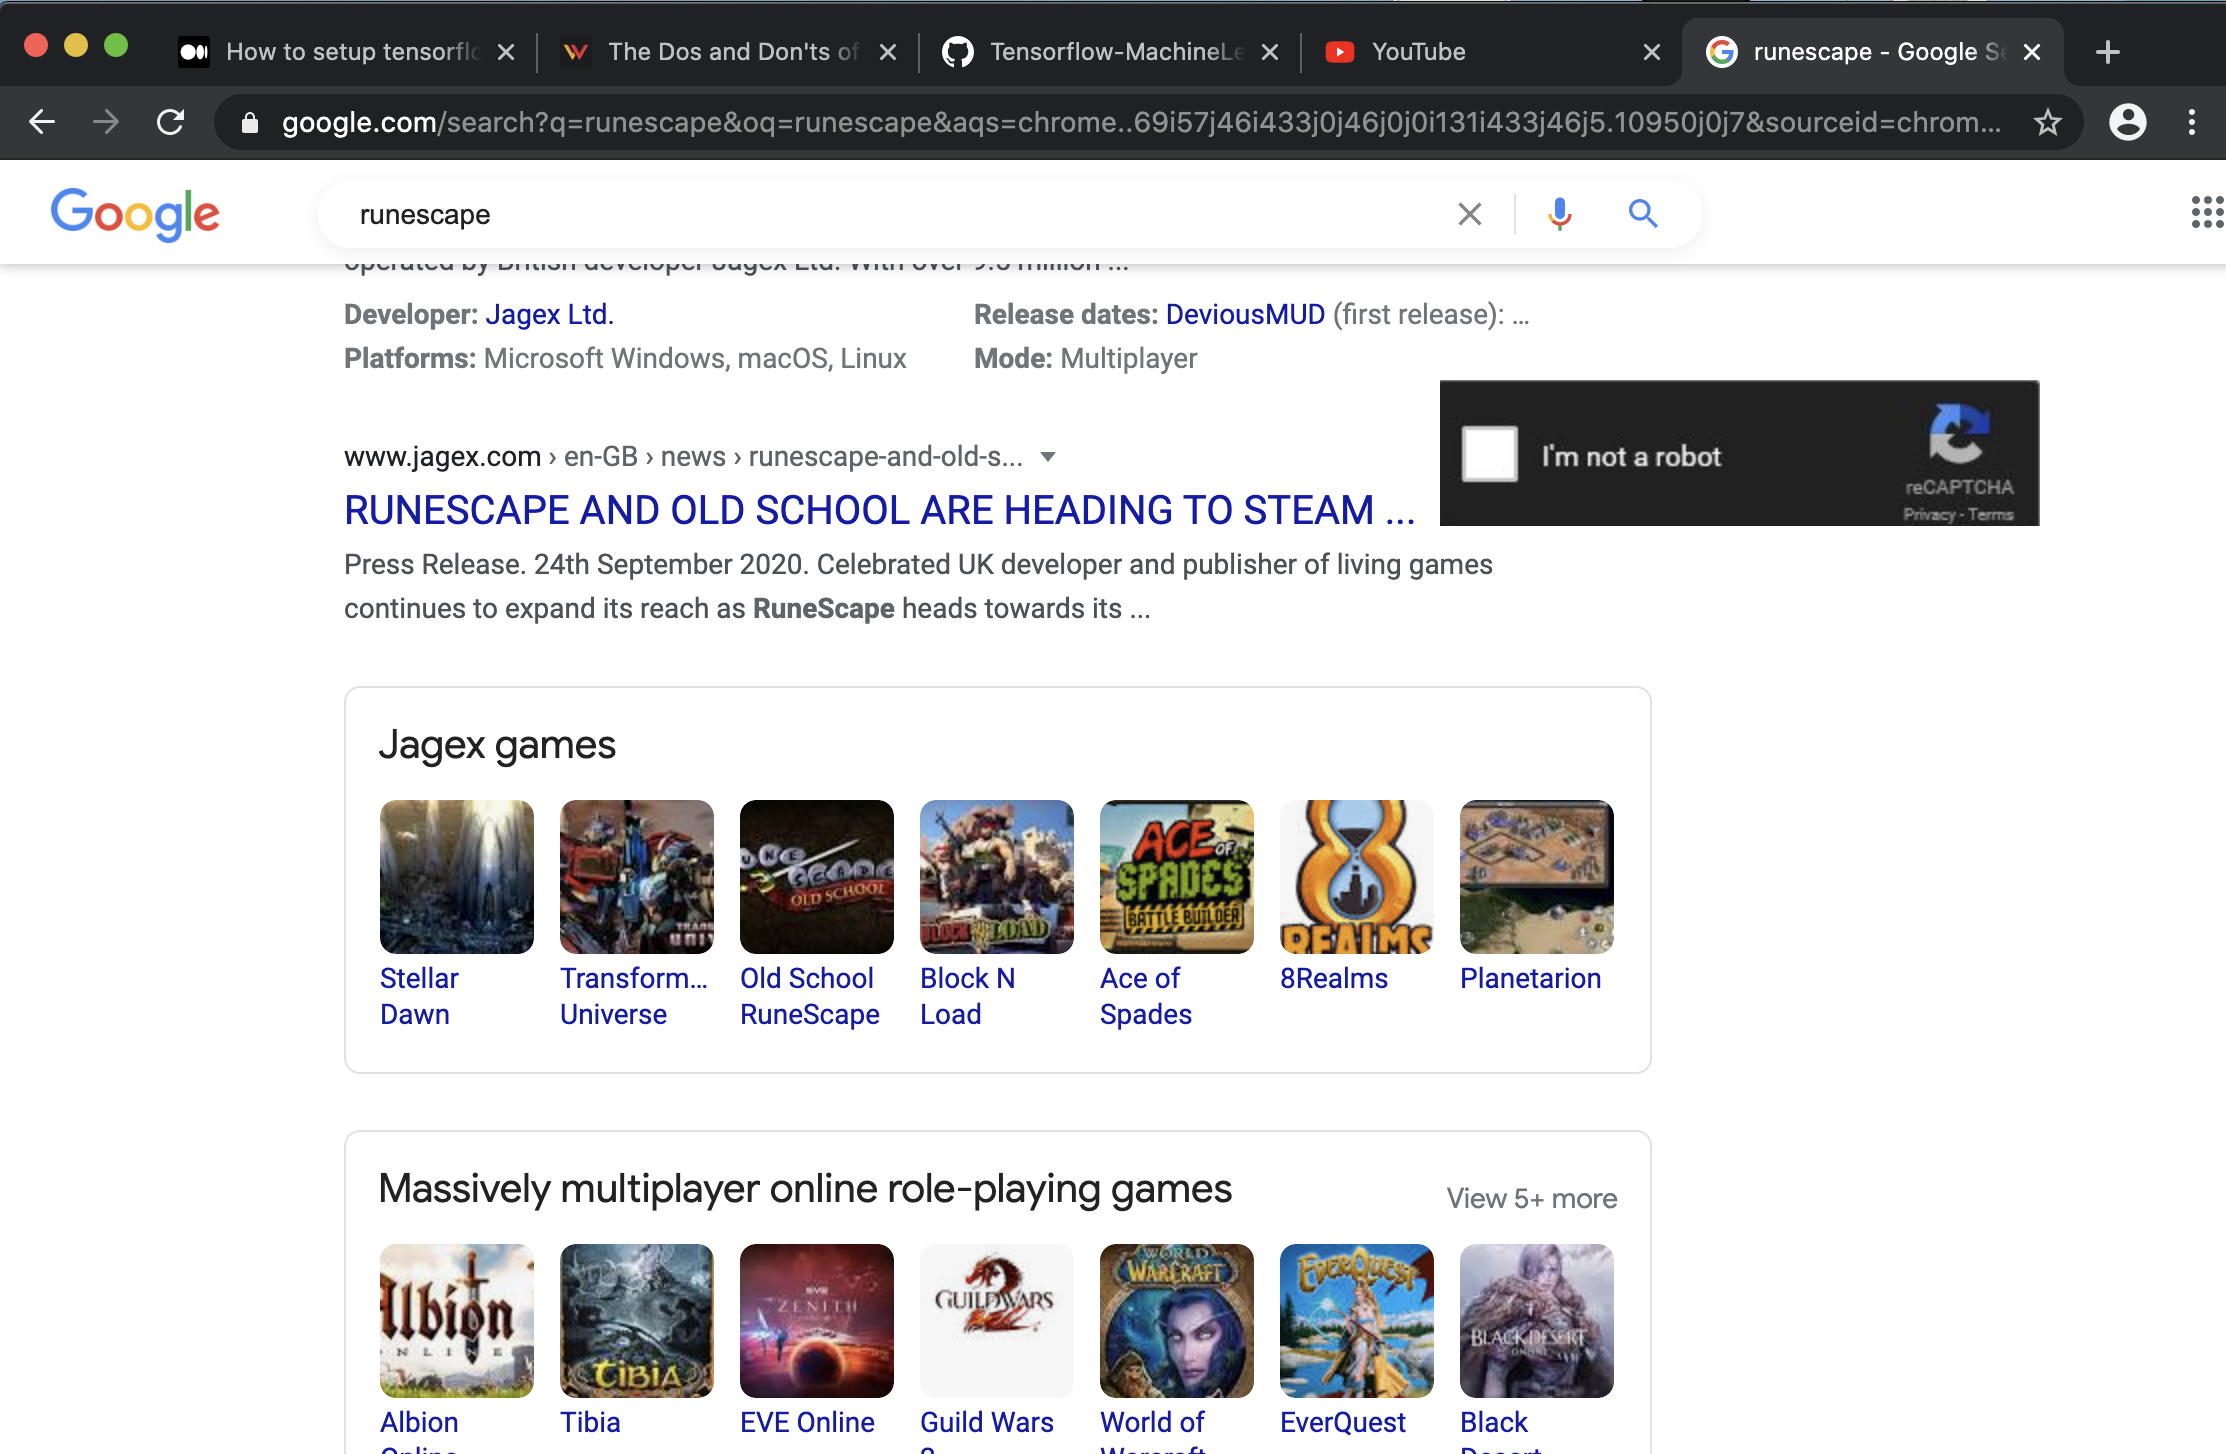captcha: (1429, 373, 2059, 553)
